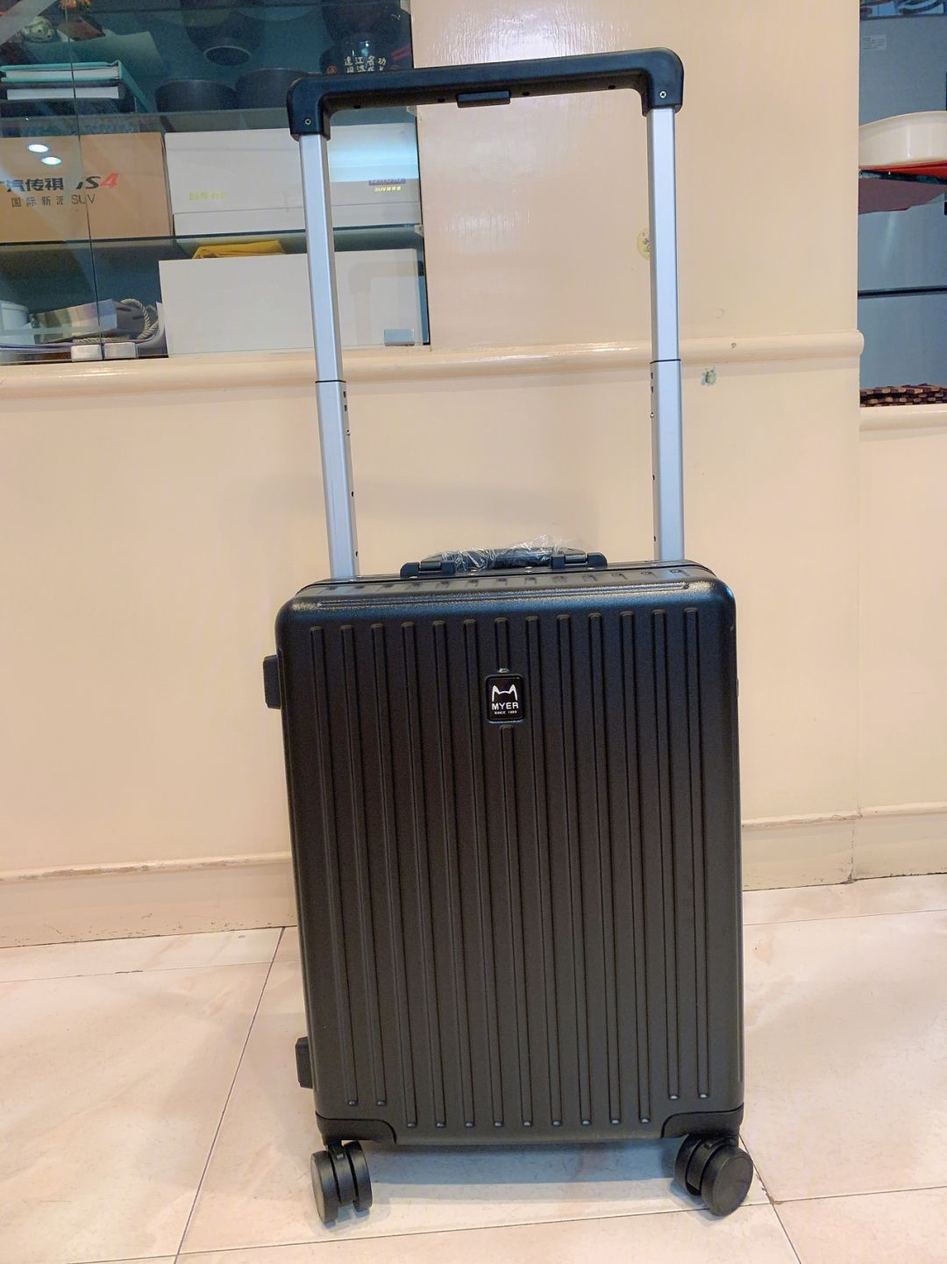box: (274, 560, 743, 1143)
handle: (398, 546, 607, 582)
wheel: (673, 1120, 755, 1219), (309, 1139, 371, 1228)
